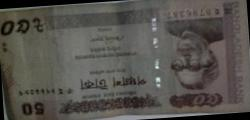50 taka: (6, 3, 245, 118)
